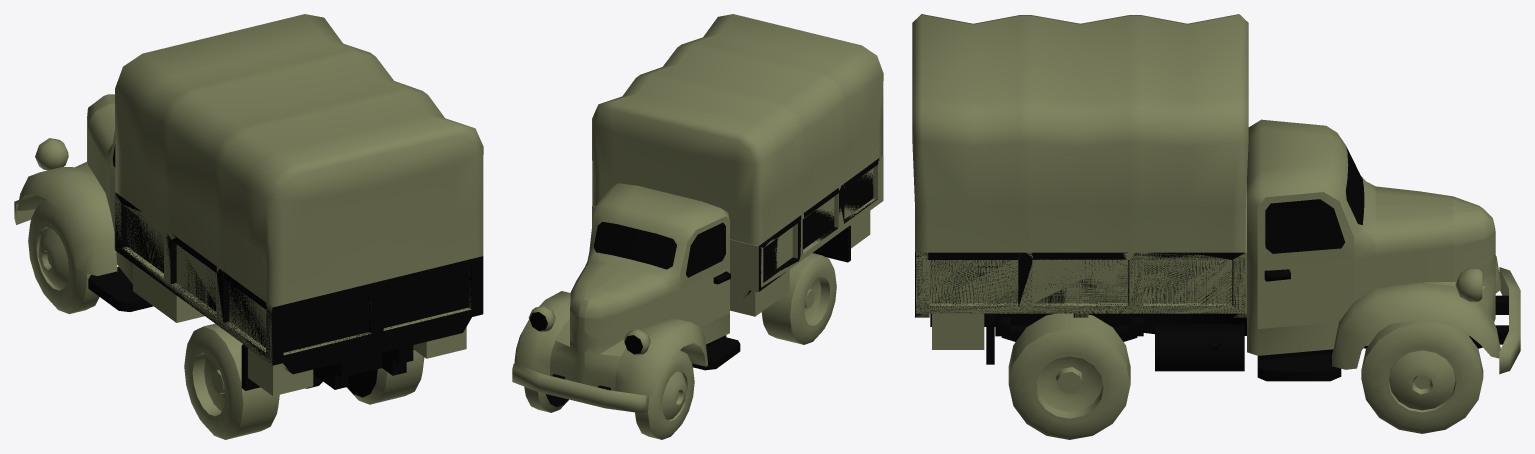
Rendered from Truck_US_Dodge_T110.fbx.
3 renders of one model, left to right at view 1: azimuth 30°, elevation 25°; view 2: azimuth 150°, elevation 25°; view 3: azimuth 270°, elevation 25°, orthographic. The views are drawn at different scales.
Parts seen in each view (by area): view 1: back_canvas, hull, back_open, tire_back, tire_front_l, wheel_back, wheel_front_l; view 2: back_canvas, hull, back_open, tire_back, tire_front_l, wheel_front_l, wheel_back, tire_front_r; view 3: back_canvas, hull, back_open, tire_back, tire_front_r, wheel_back, wheel_front_r.
Part boxes in pixels (bbox=[...]): back_canvas: bbox=[115, 14, 483, 374]; hull: bbox=[14, 94, 466, 396]; back_open: bbox=[114, 169, 471, 370]; tire_back: bbox=[184, 323, 424, 439]; tire_front_l: bbox=[28, 200, 99, 313]; wheel_back: bbox=[190, 349, 377, 420]; wheel_front_l: bbox=[34, 223, 70, 294]; back_canvas: bbox=[592, 14, 883, 294]; hull: bbox=[512, 183, 870, 412]; back_open: bbox=[592, 137, 882, 299]; tire_back: bbox=[761, 253, 836, 344]; tire_front_l: bbox=[635, 350, 694, 439]; wheel_front_l: bbox=[660, 368, 689, 424]; wheel_back: bbox=[803, 273, 831, 329]; tire_front_r: bbox=[524, 386, 568, 412]; back_canvas: bbox=[912, 14, 1248, 317]; hull: bbox=[930, 119, 1520, 381]; back_open: bbox=[916, 184, 1246, 317]; tire_back: bbox=[1008, 313, 1130, 439]; tire_front_r: bbox=[1361, 319, 1483, 433]; wheel_back: bbox=[1031, 352, 1107, 422]; wheel_front_r: bbox=[1384, 346, 1460, 416].
Size of the model in its own units: 295 by 681 by 416.
